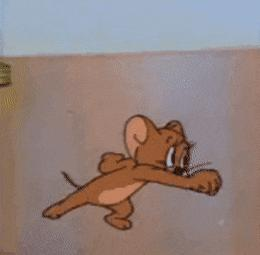jerry: (41, 114, 223, 232)
